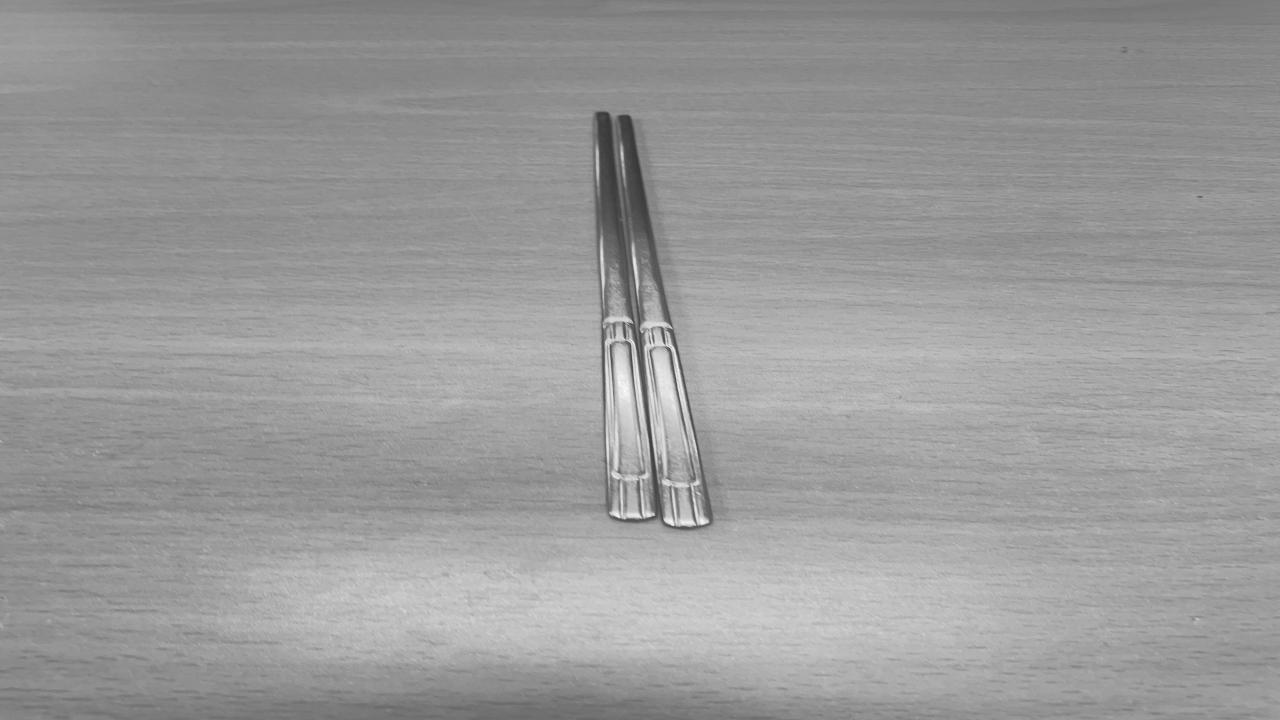chopstick: (597, 113, 705, 525)
